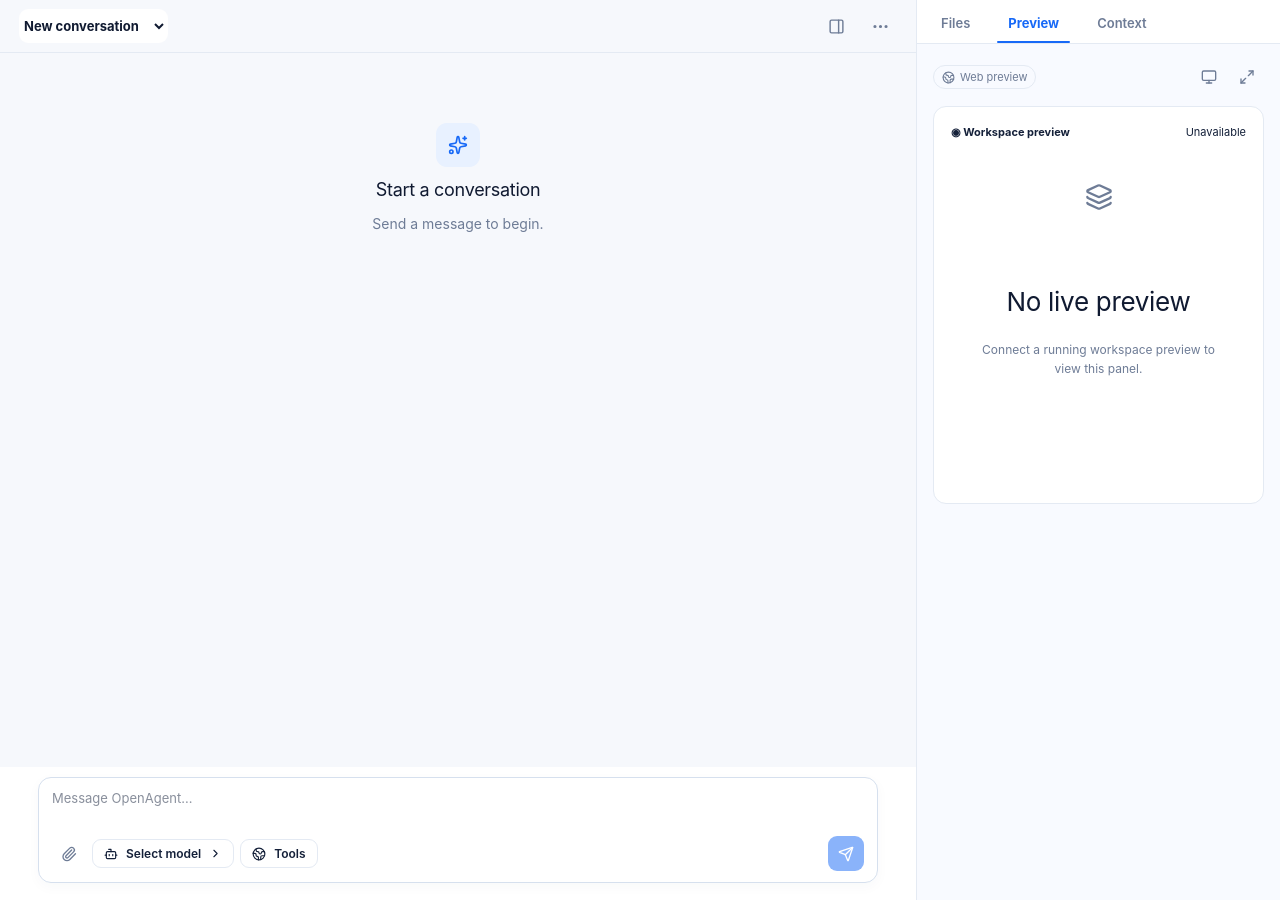
Test: chat provider, privacy and attachment controls › keeps external egress disabled for Auto route until the user opts in
This screenshot has width=1280, height=900.
Type "Keep this local" into the text box labelled "Message OpenAgent" at (458, 810), box [52, 789, 864, 831]
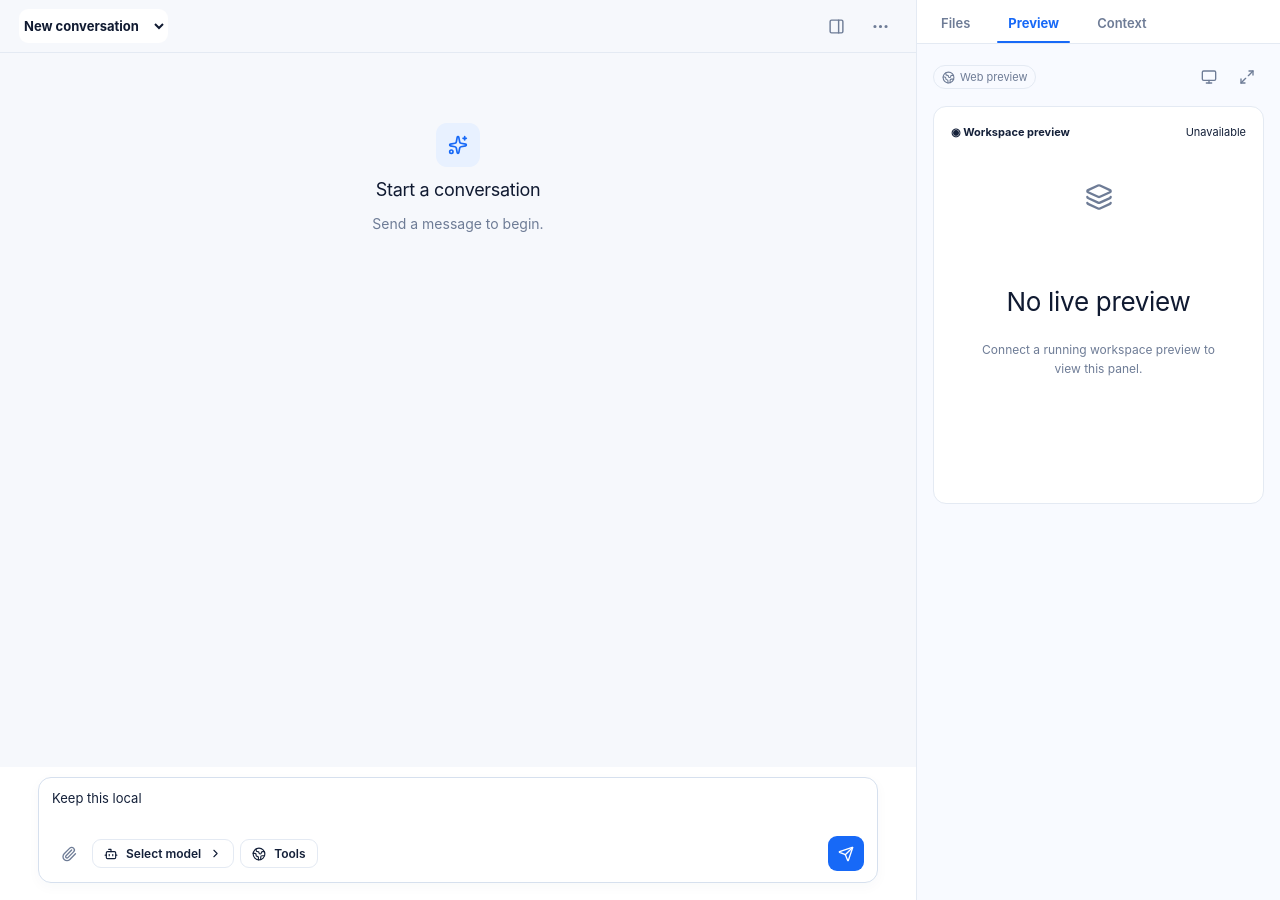
Click the button named "Send message" at (846, 854), box [828, 836, 864, 871]
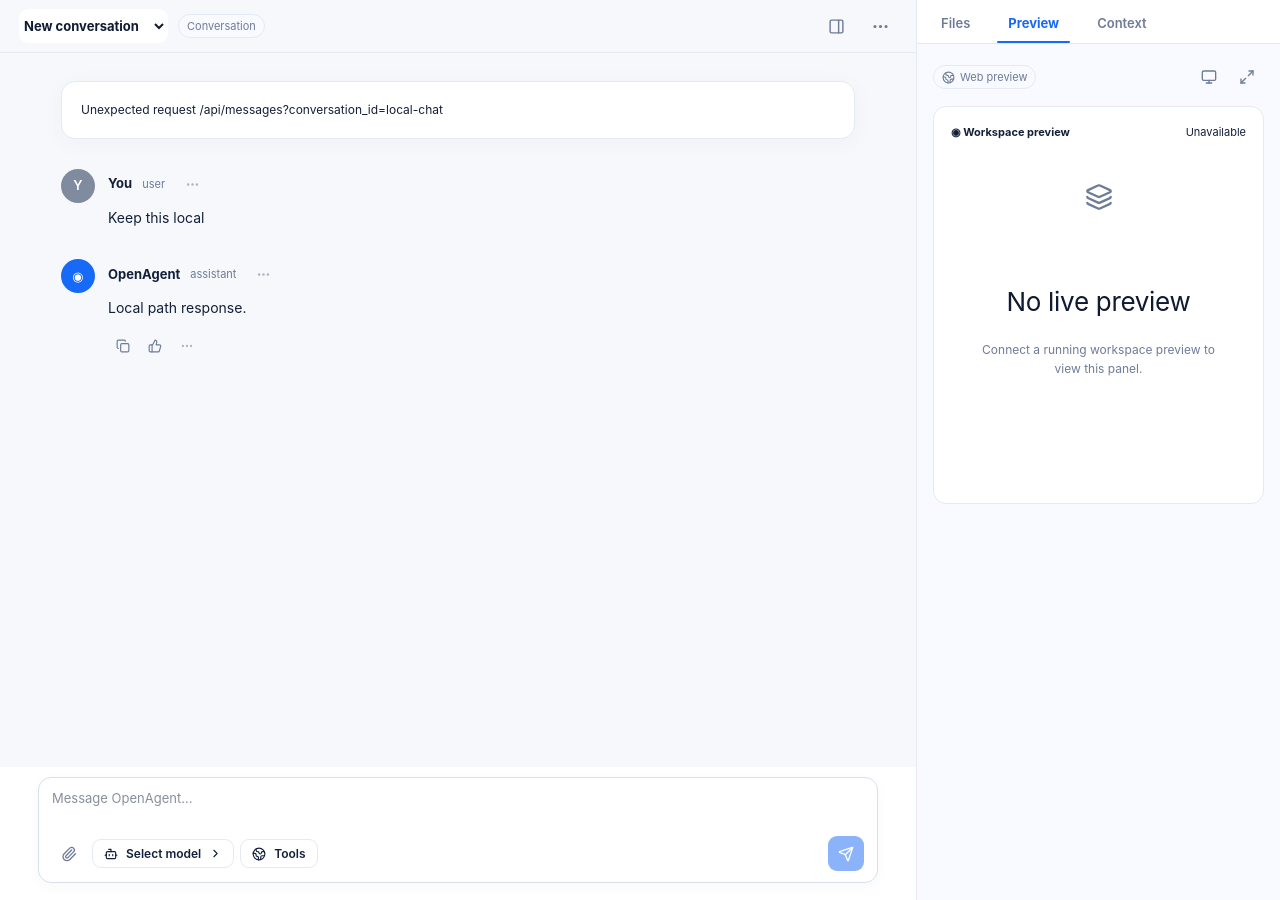
expect the text "Local path response." is shown: met, box [108, 299, 246, 316]
